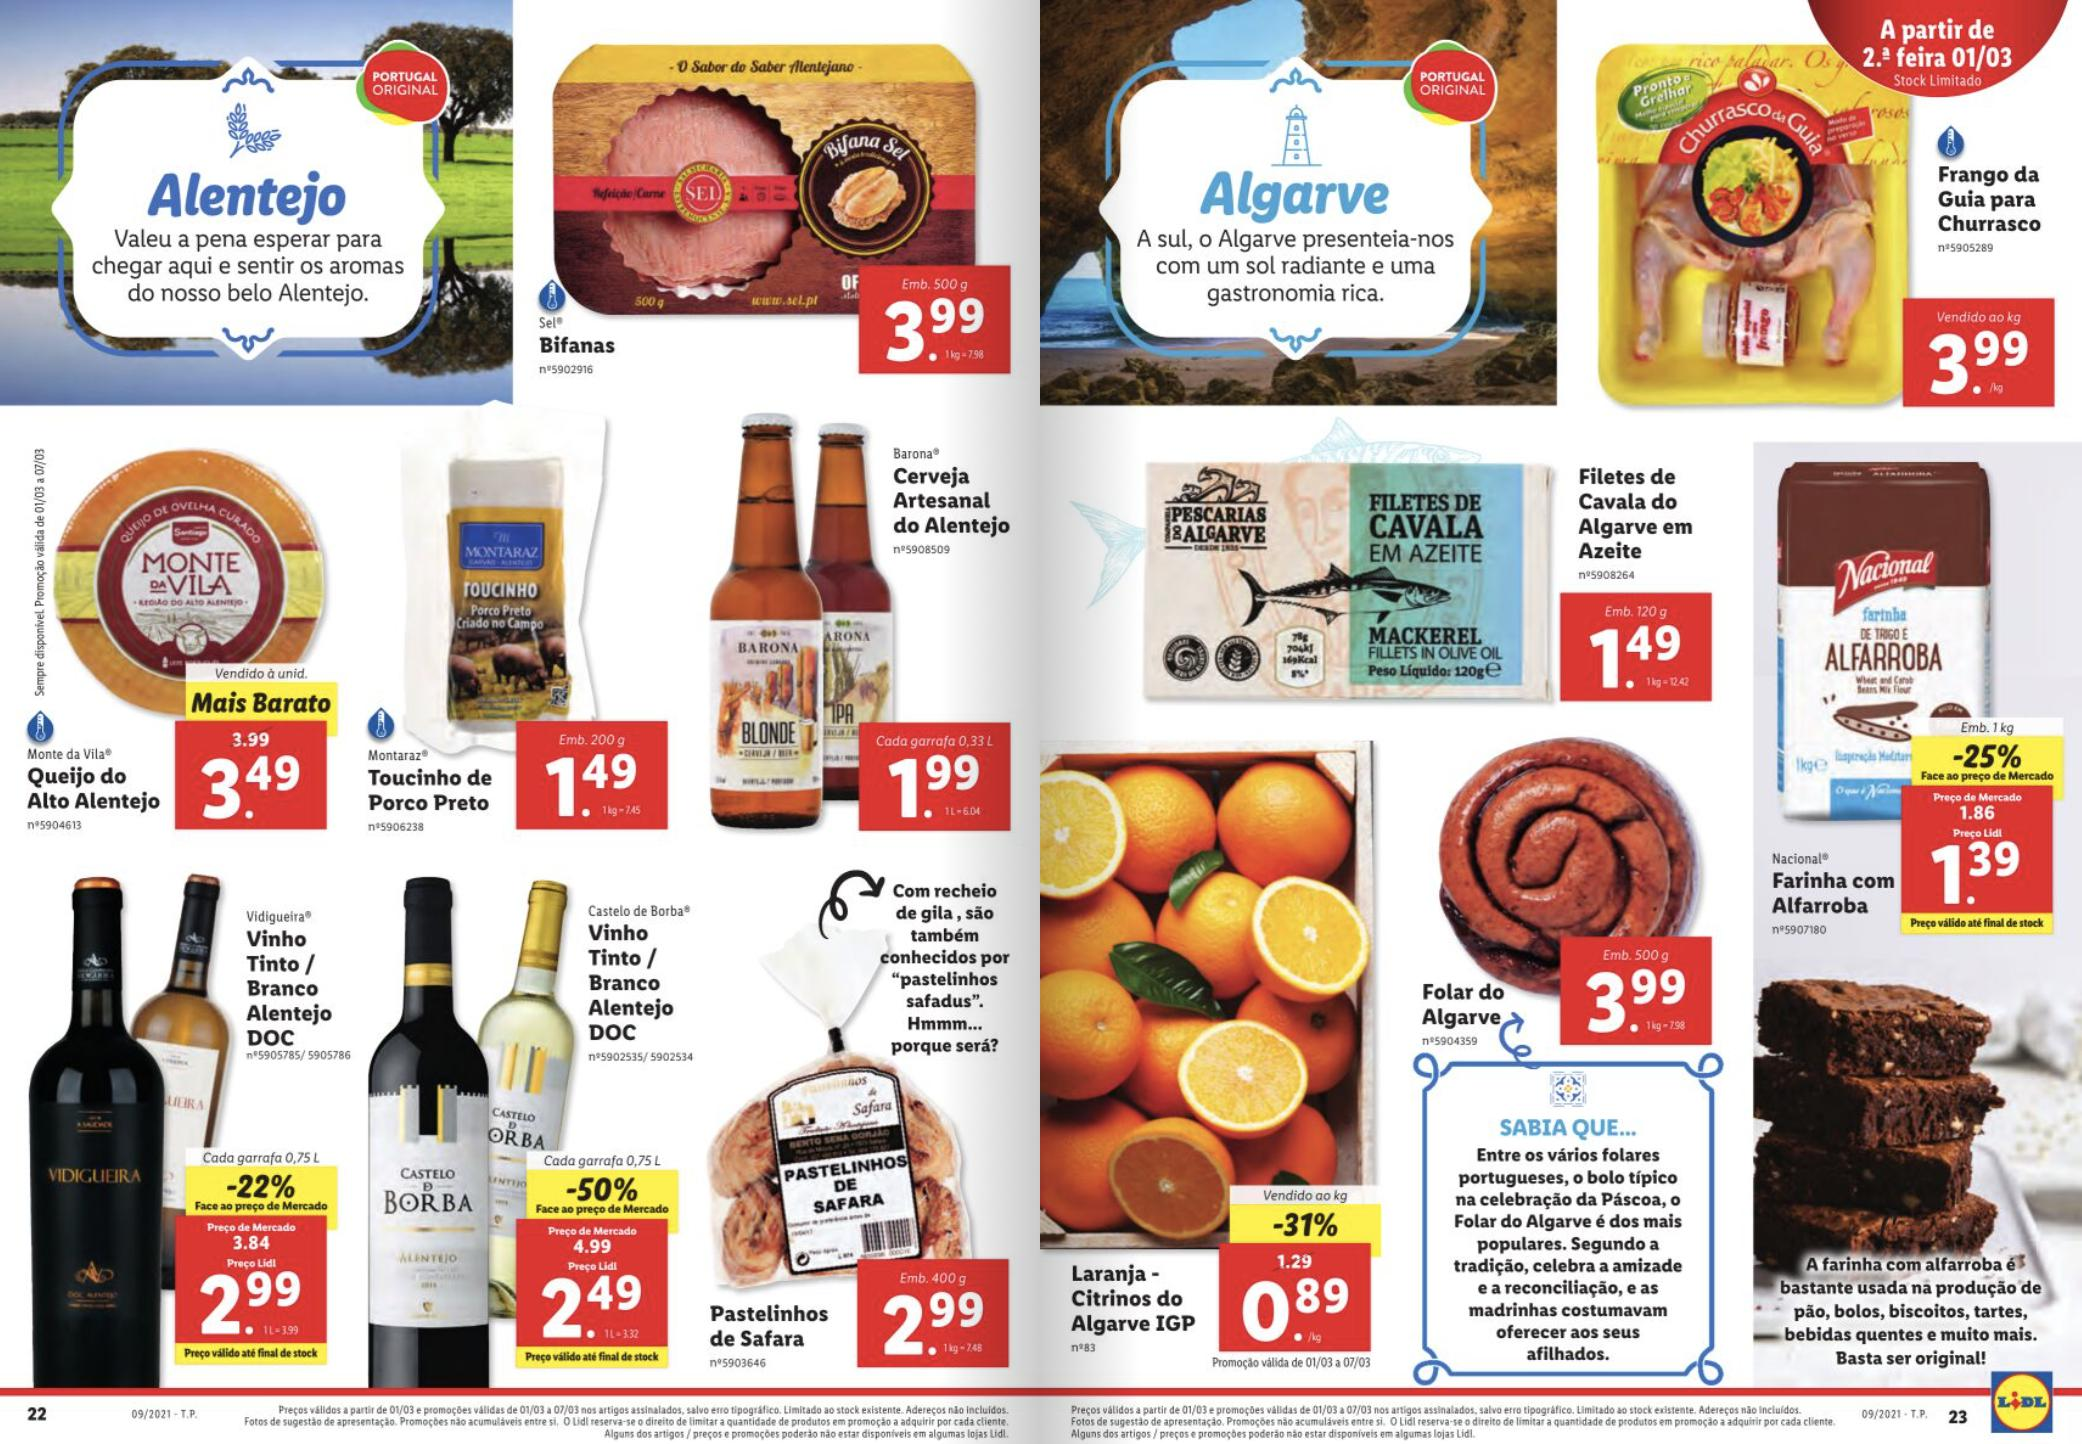name: (226, 924, 343, 1055), (1573, 459, 1701, 566), (1062, 1253, 1209, 1341), (876, 460, 1020, 541), (589, 925, 682, 1047), (11, 754, 172, 822), (1932, 158, 2054, 236), (367, 764, 503, 819), (1764, 870, 1903, 920), (710, 1298, 829, 1349), (1421, 979, 1514, 1033), (541, 332, 630, 361)
price: (1922, 323, 2050, 405), (1239, 1264, 1361, 1348), (1925, 822, 2038, 911), (884, 288, 997, 373), (528, 1270, 657, 1341), (876, 750, 994, 822), (182, 1273, 313, 1338), (1582, 962, 1691, 1034), (876, 1294, 990, 1362), (1585, 620, 1691, 691), (195, 758, 316, 818), (544, 750, 644, 815)
product: (1032, 716, 1414, 1382), (517, 25, 1038, 394), (1579, 35, 2065, 422), (2, 873, 370, 1382), (1054, 448, 1720, 723), (1720, 448, 2073, 958), (699, 883, 1032, 1393), (370, 883, 717, 1363), (2, 421, 380, 835), (702, 411, 1038, 868), (353, 444, 672, 867), (1414, 716, 1736, 1055)
promotion: (1944, 739, 2027, 777), (1267, 1205, 1345, 1238), (214, 1170, 304, 1199), (566, 1170, 638, 1205)
